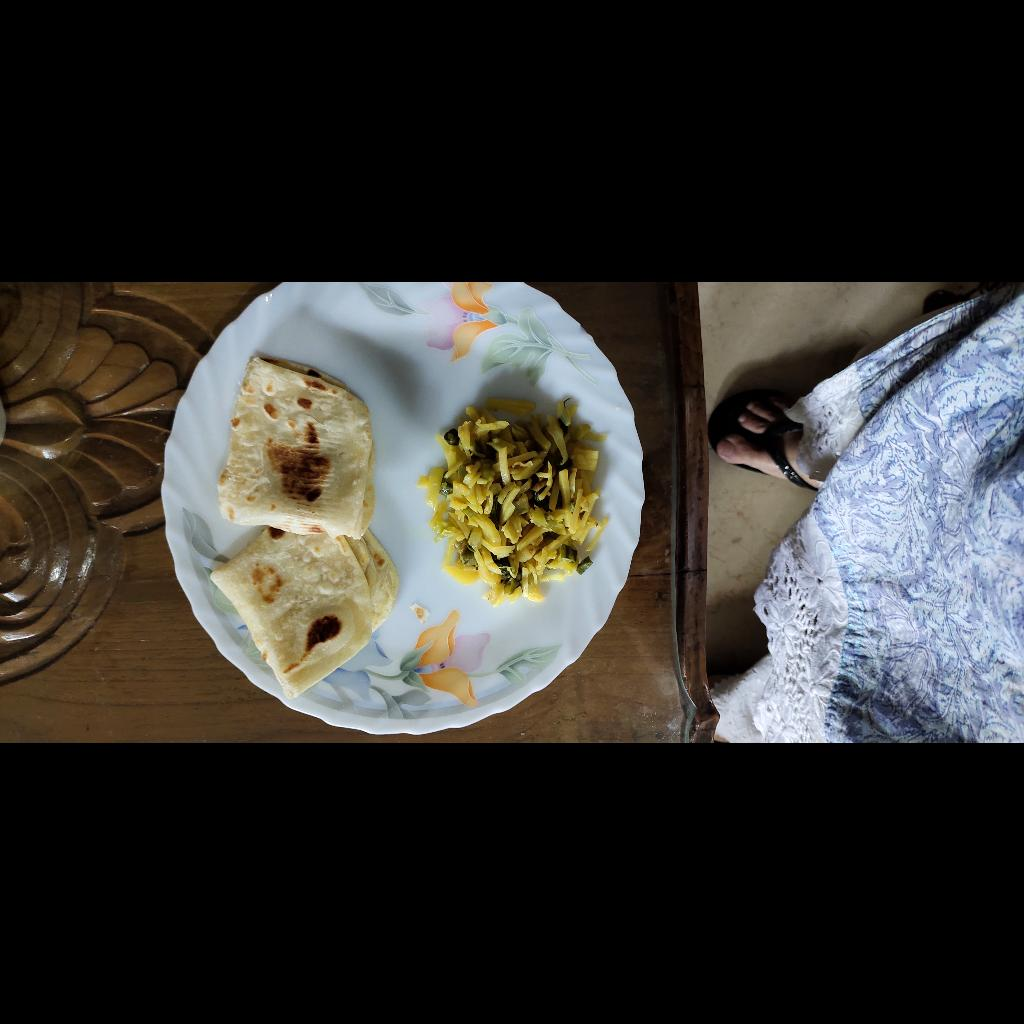ruti: (44, 483, 387, 683)
vegetable: (140, 694, 350, 893)
